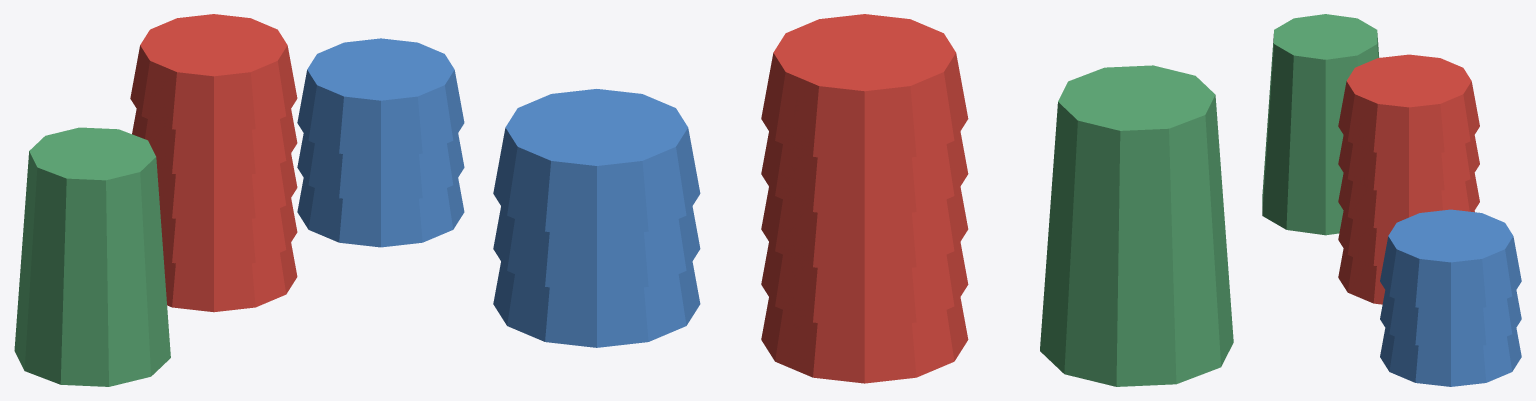
The model's file is stool_stack.glb.
The picture shows the model from 3 angles, left to right: view 1: azimuth 30°, elevation 25°; view 2: azimuth 150°, elevation 25°; view 3: azimuth 270°, elevation 25°; orthographic projection. The views are drawn at different scales.
Parts seen in each view (by area): view 1: stool_stack; view 2: stool_stack; view 3: stool_stack.
Boxes of the visible parts, x1=… form: stool_stack: x1=14, y1=14, x2=464, y2=386; stool_stack: x1=493, y1=14, x2=1233, y2=386; stool_stack: x1=1262, y1=14, x2=1521, y2=386.
Bounding box in the file's own units: 1.18 × 0.52 × 0.6222.
